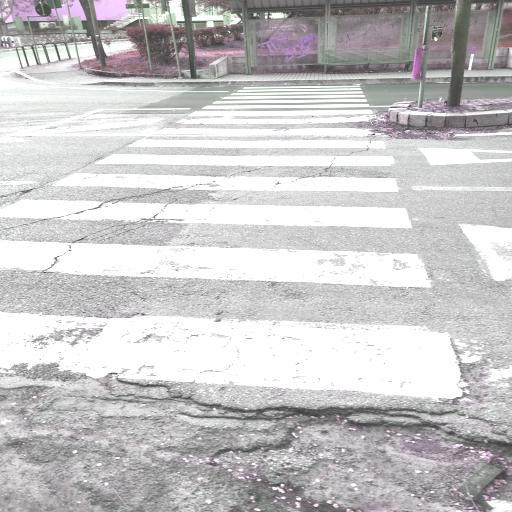crosswalk: (0, 170, 417, 236), (122, 124, 390, 150)
